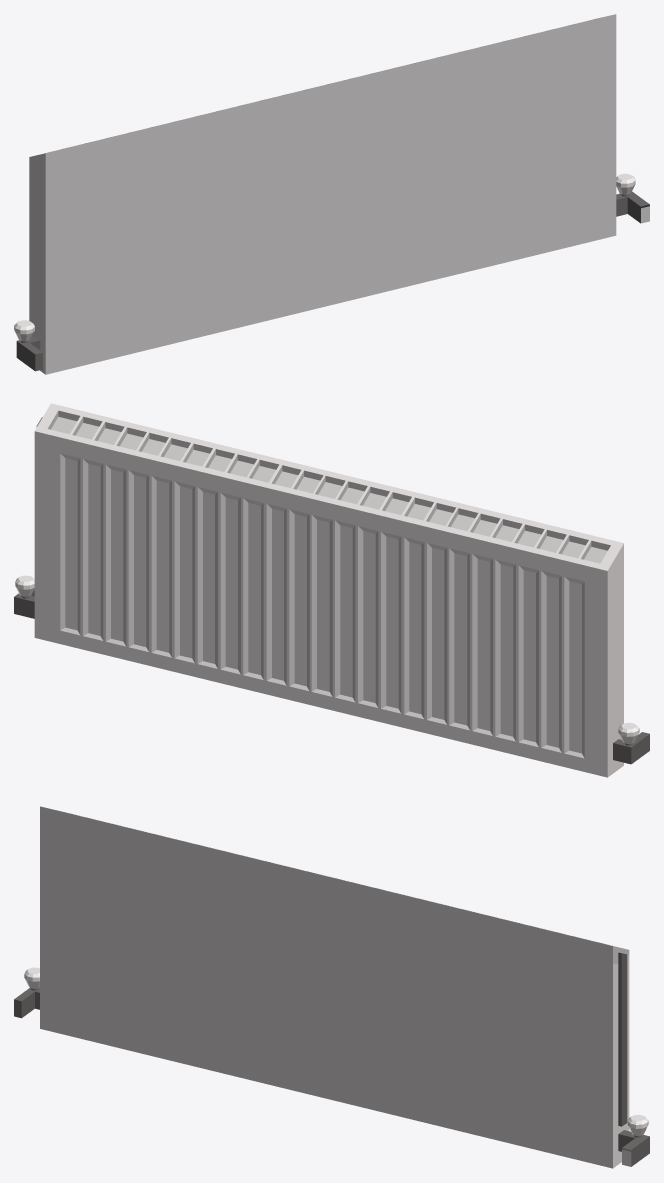
The model's file is Radiator.fbx.
The picture shows the model from 3 angles, top to bottom: view 1: azimuth 30°, elevation 25°; view 2: azimuth 150°, elevation 25°; view 3: azimuth 330°, elevation 25°; orthographic projection.
Parts seen in each view (by area): view 1: Cube.060; view 2: Cube.060; view 3: Cube.060.
Part boxes in pixels (x1,y1,x2,y2): Cube.060: (14,14,649,374); Cube.060: (14,403,649,777); Cube.060: (14,806,649,1168).
Bounding box in the file's own units: 291 × 99.42 × 19.59.
